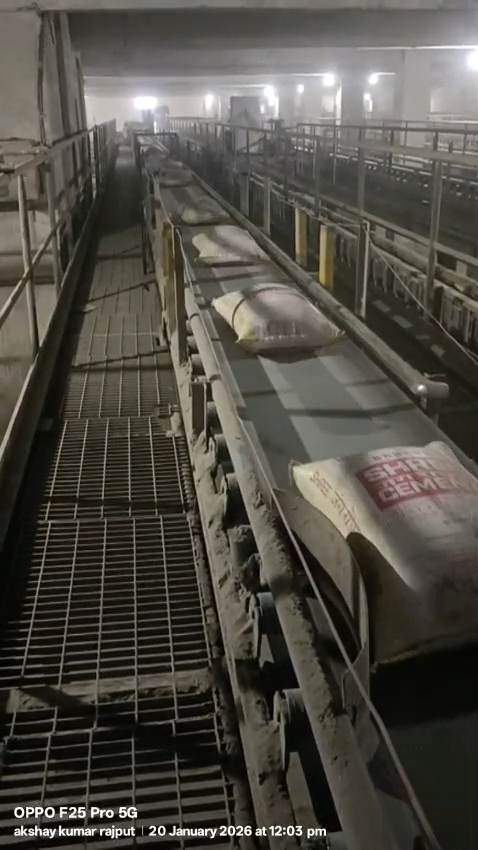Bag: (282, 421, 478, 663), (207, 281, 352, 350), (179, 221, 268, 262)
Printed: (350, 444, 474, 509), (311, 464, 387, 544)
